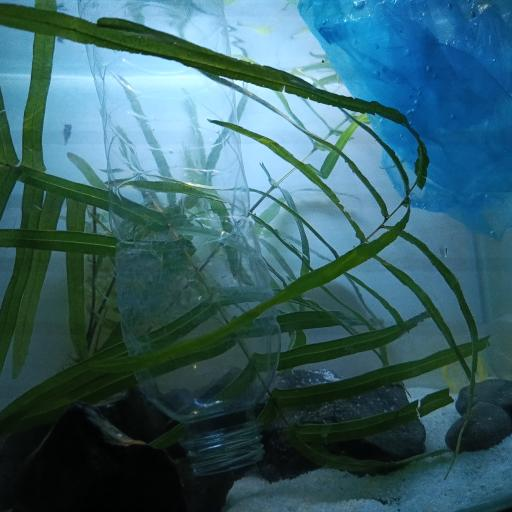plastic_bag: (301, 0, 512, 252)
plastic_bottle: (85, 0, 285, 472)
